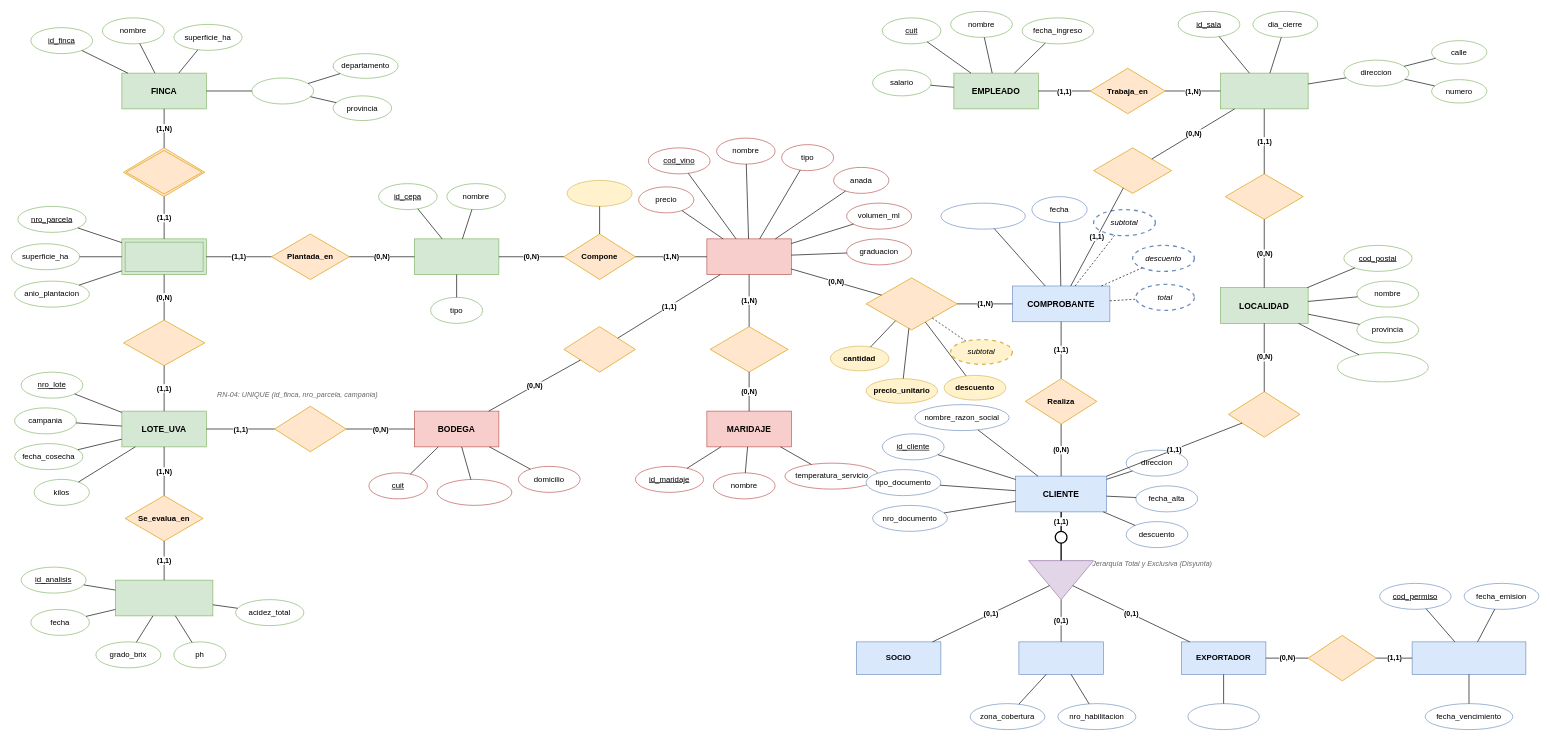
Image size: 1550x741. Some labels were removed from this diagram. The shapes that lost their labels are listed below. From the top down, each one's centre as x and y in pixels, then its label:
At (x=282, y=90): "ubicacion".
At (x=1264, y=90): "SALA_VENTA".
At (x=164, y=172): "Se_divide_en".
At (x=1132, y=170): "Se_realiza_en".
At (x=599, y=193): "porcentaje".
At (x=1264, y=196): "Se_ubica_en".
At (x=982, y=215): "nro_comprobante".
At (x=163, y=256): "PARCELA".
At (x=456, y=256): "CEPA".
At (x=748, y=256): "VINO".
At (x=911, y=303): "Incluye_renglon".
At (x=164, y=342): "Cosechada_en".
At (x=599, y=349): "Elabora".
At (x=748, y=349): "Recomienda".
At (x=1382, y=367): "encargado_regional".
At (x=310, y=429): "Recibe".
At (x=1264, y=414): "Reside_en".
At (x=474, y=492): "razon_social".
At (x=164, y=597): "ANALISIS_CALIDAD".
At (x=1061, y=580): "ES UN".
At (x=1060, y=657): "DISTRIBUIDOR".
At (x=1341, y=658): "Posee".
At (x=1468, y=657): "PERMISO_EXPORTACION".
At (x=1223, y=716): "pais_destino".
